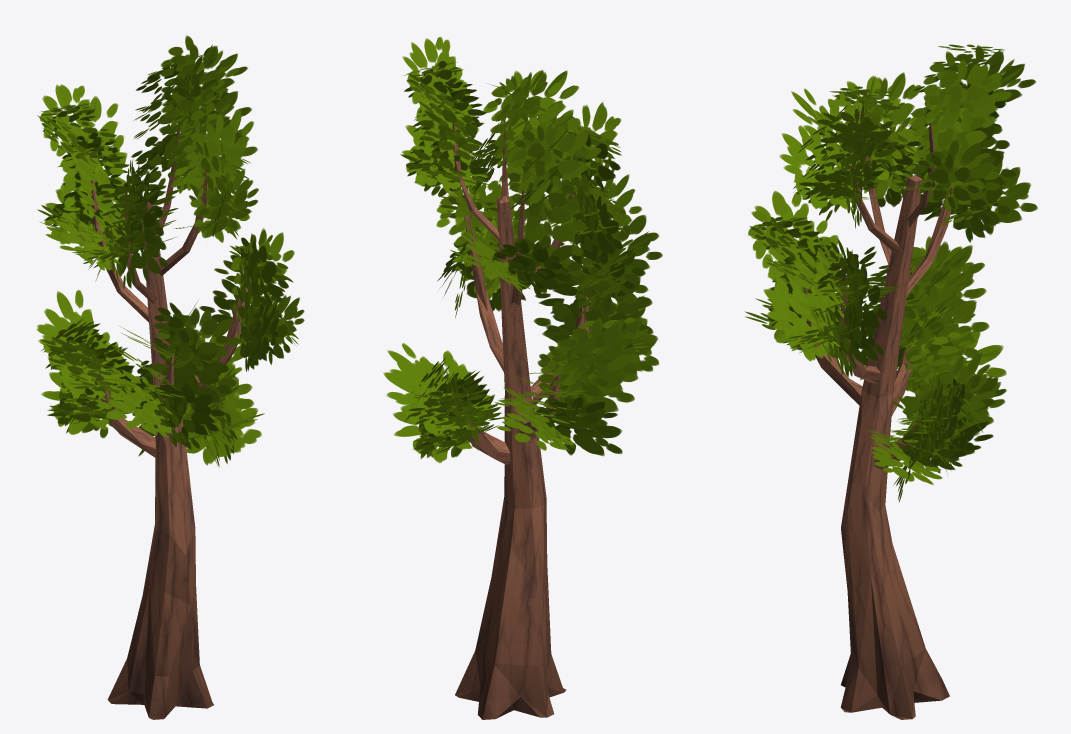
File: tree-a.glb
3 renders of one model, left to right at view 1: azimuth 30°, elevation 25°; view 2: azimuth 150°, elevation 25°; view 3: azimuth 270°, elevation 25°, orthographic. The views are drawn at different scales.
Visible parts, largest first — view 1: CommonTree_3; view 2: CommonTree_3; view 3: CommonTree_3.
Part boxes in pixels (x1,y1,x2,y2): CommonTree_3: [36, 35, 304, 719]; CommonTree_3: [383, 37, 662, 719]; CommonTree_3: [745, 44, 1037, 719].
Bounding box in the file's own units: 4.06 × 9.43 × 4.24.
2 materials, 2 textured.
